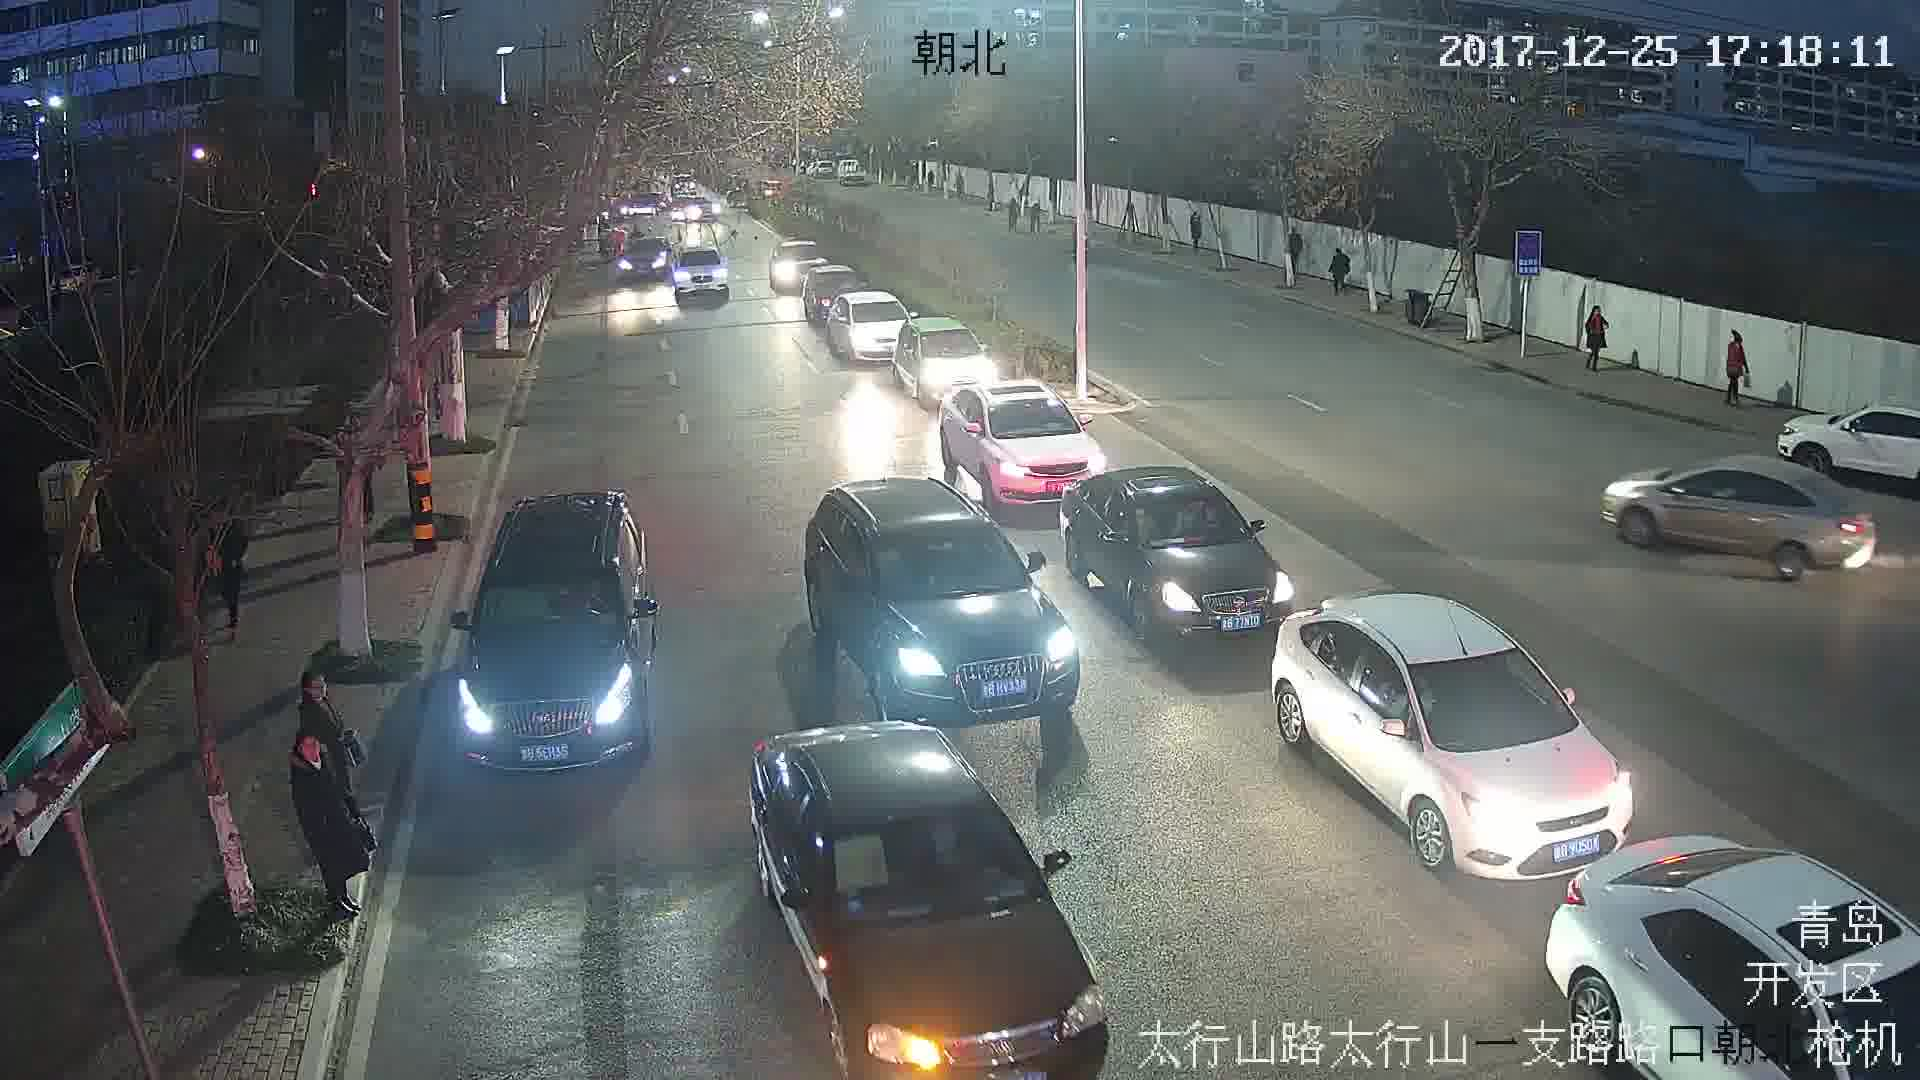car: (750, 716, 1116, 1069), (1282, 592, 1627, 877), (803, 473, 1084, 723), (450, 494, 659, 771), (1073, 473, 1298, 639), (1605, 453, 1884, 581), (948, 382, 1112, 505), (893, 319, 993, 399), (824, 298, 909, 362), (668, 246, 731, 295)
person: (293, 739, 370, 913), (292, 677, 362, 802), (1717, 328, 1750, 402), (1588, 309, 1610, 366), (1328, 253, 1348, 291)
